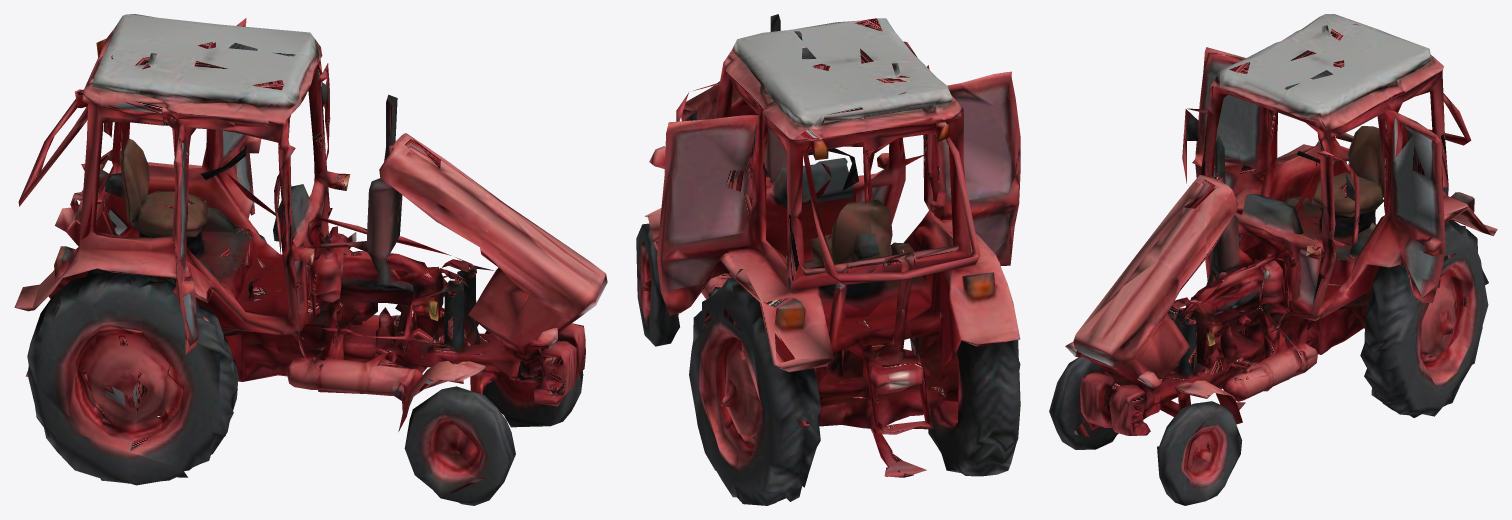
The model's file is tractor.glb.
The picture shows the model from 3 angles, left to right: view 1: azimuth 30°, elevation 25°; view 2: azimuth 150°, elevation 25°; view 3: azimuth 270°, elevation 25°; orthographic projection. The views are drawn at different scales.
Parts seen in each view (by area): view 1: prop; view 2: prop; view 3: prop.
Boxes of the visible parts, x1,y1,x2,y2 form: prop: (14,14,607,505); prop: (636,14,1020,505); prop: (1049,14,1497,505).
Bounding box in the file's own units: 1.24 × 1 × 1.16.
Materials: 1 (1 with a texture image).
